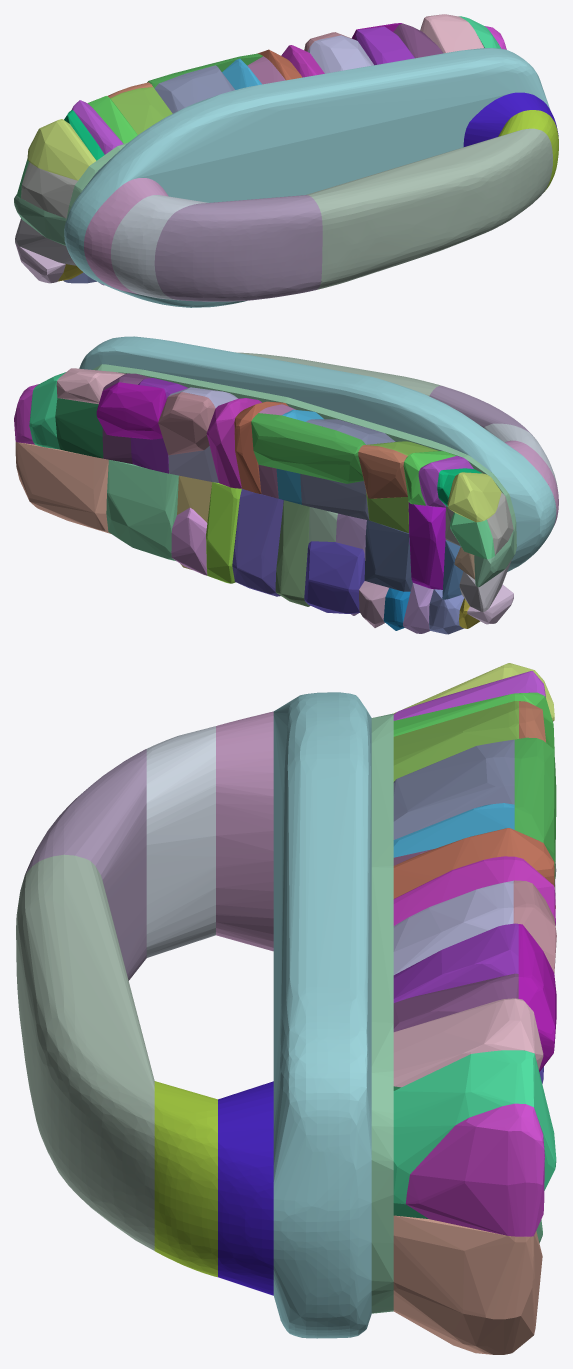
The model's file is handle_eraser-collision.glb.
The picture shows the model from 3 angles, top to bottom: view 1: azimuth 30°, elevation 25°; view 2: azimuth 150°, elevation 25°; view 3: azimuth 270°, elevation 25°; orthographic projection. The views are drawn at different scales.
Visible parts, largest first — view 1: handle_eraser_collision2_0, handle_eraser_collision0_0, handle_eraser_collision1_0, handle_eraser_collision6_0, handle_eraser_collision7_0, handle_eraser_collision34_0, handle_eraser_collision5_0, handle_eraser_collision16_0, handle_eraser_collision35_0, handle_eraser_collision30_0, handle_eraser_collision12_0, handle_eraser_collision24_0 (+16 smaller); view 2: handle_eraser_collision2_0, handle_eraser_collision9_0, handle_eraser_collision10_0, handle_eraser_collision8_0, handle_eraser_collision18_0, handle_eraser_collision20_0, handle_eraser_collision3_0, handle_eraser_collision11_0, handle_eraser_collision16_0, handle_eraser_collision19_0, handle_eraser_collision32_0, handle_eraser_collision21_0 (+38 smaller); view 3: handle_eraser_collision2_0, handle_eraser_collision0_0, handle_eraser_collision9_0, handle_eraser_collision6_0, handle_eraser_collision22_0, handle_eraser_collision3_0, handle_eraser_collision7_0, handle_eraser_collision1_0, handle_eraser_collision23_0, handle_eraser_collision4_0, handle_eraser_collision5_0, handle_eraser_collision16_0 (+15 smaller).
Part boxes in pixels (x1,y1,x2,y2): handle_eraser_collision2_0: (64,48,549,307); handle_eraser_collision0_0: (306,128,552,289); handle_eraser_collision1_0: (154,195,322,301); handle_eraser_collision6_0: (111,195,208,300); handle_eraser_collision7_0: (84,178,168,294); handle_eraser_collision34_0: (27,119,96,180); handle_eraser_collision5_0: (463,92,558,146); handle_eraser_collision16_0: (154,65,234,113); handle_eraser_collision35_0: (21,162,77,218); handle_eraser_collision30_0: (110,87,172,134); handle_eraser_collision12_0: (307,35,373,73); handle_eraser_collision24_0: (420,14,484,53); handle_eraser_collision2_0: (79,336,556,571); handle_eraser_collision9_0: (15,442,110,533); handle_eraser_collision10_0: (106,460,178,561); handle_eraser_collision8_0: (251,413,365,483); handle_eraser_collision18_0: (232,489,283,596); handle_eraser_collision20_0: (304,541,364,613); handle_eraser_collision3_0: (92,364,516,558); handle_eraser_collision11_0: (96,382,166,439); handle_eraser_collision16_0: (300,419,395,520); handle_eraser_collision19_0: (275,500,310,606); handle_eraser_collision32_0: (408,502,445,589); handle_eraser_collision21_0: (364,520,412,591); handle_eraser_collision2_0: (273,692,371,1338); handle_eraser_collision0_0: (16,854,154,1250); handle_eraser_collision9_0: (393,1215,542,1354); handle_eraser_collision6_0: (146,726,215,957); handle_eraser_collision22_0: (405,1103,544,1236); handle_eraser_collision3_0: (371,713,393,1313); handle_eraser_collision7_0: (216,711,273,951); handle_eraser_collision1_0: (24,749,146,980); handle_eraser_collision23_0: (393,1050,556,1218); handle_eraser_collision4_0: (154,1081,217,1277); handle_eraser_collision5_0: (218,1081,273,1295); handle_eraser_collision16_0: (393,739,514,839).
Size of the model in its own units: 0.1708 by 0.0682 by 0.0833.
